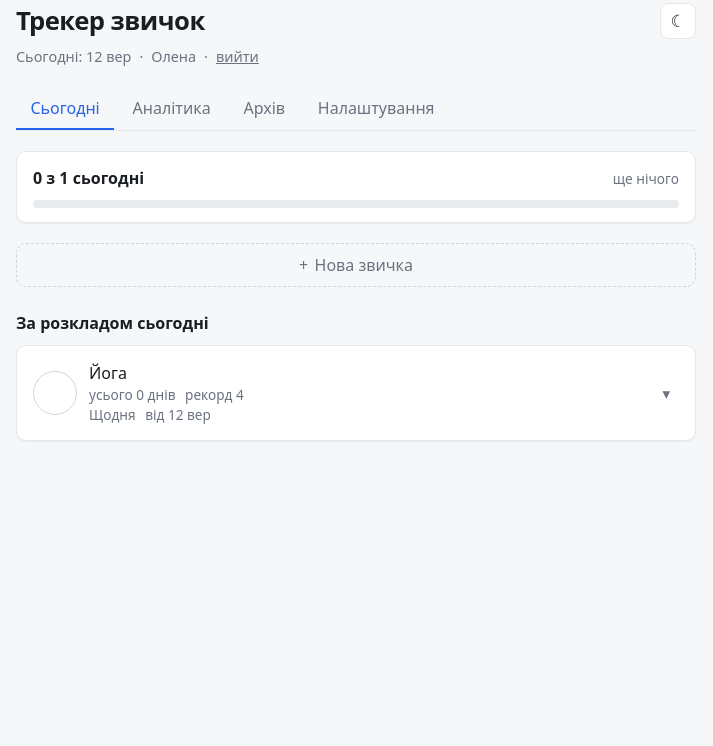
Розклад і профіль › зберігає налаштування нагадувань і пропонує експорт
Click the tab "Налаштування" at x=376, y=109, box [303,88,449,130]
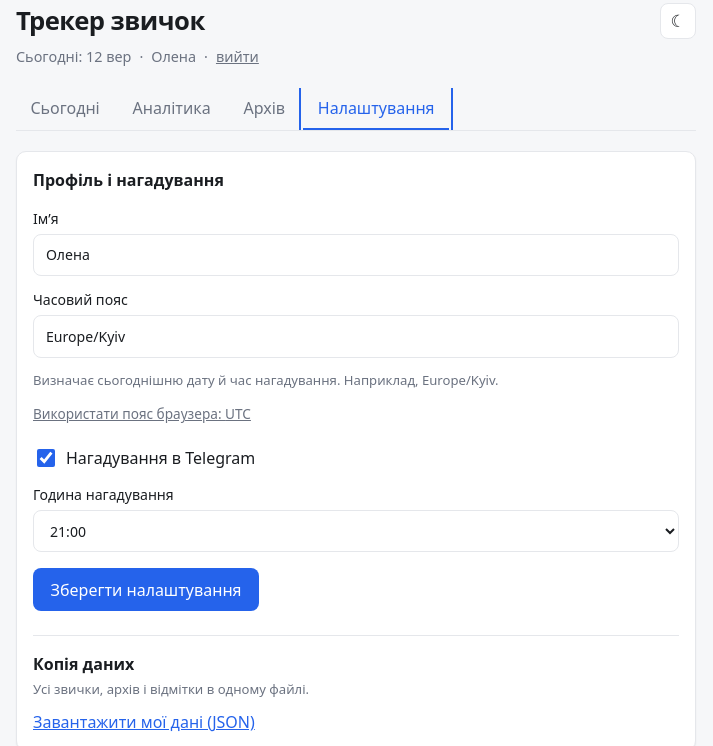
Replace the text in the field labelled "Ім’я" with "Марія" at x=356, y=255, box [33,234,679,276]
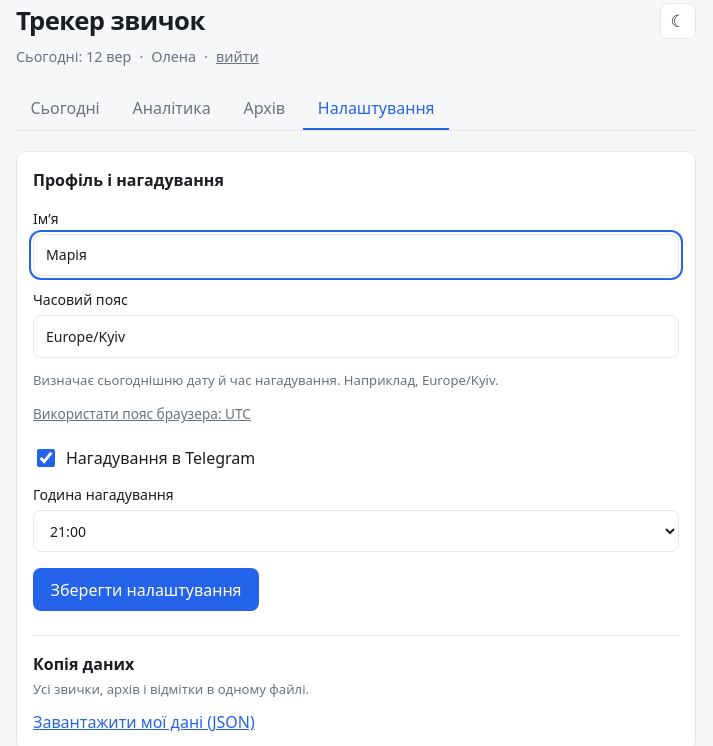
Replace the text in the field labelled "Часовий пояс" with "Europe/London" at x=356, y=336, box [33,315,679,358]
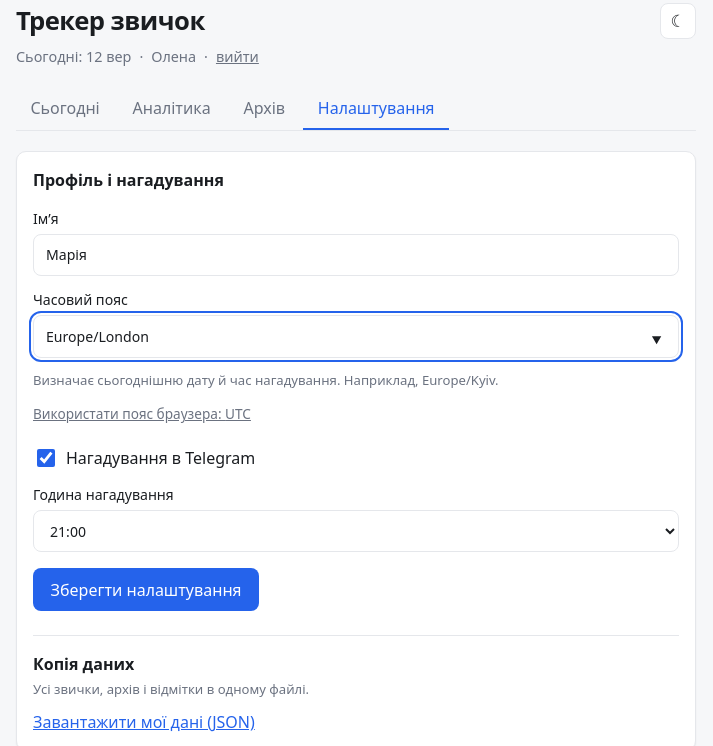
Select "08:00" in the dropdown labelled "Година нагадування" at x=356, y=531, box [33,510,679,552]
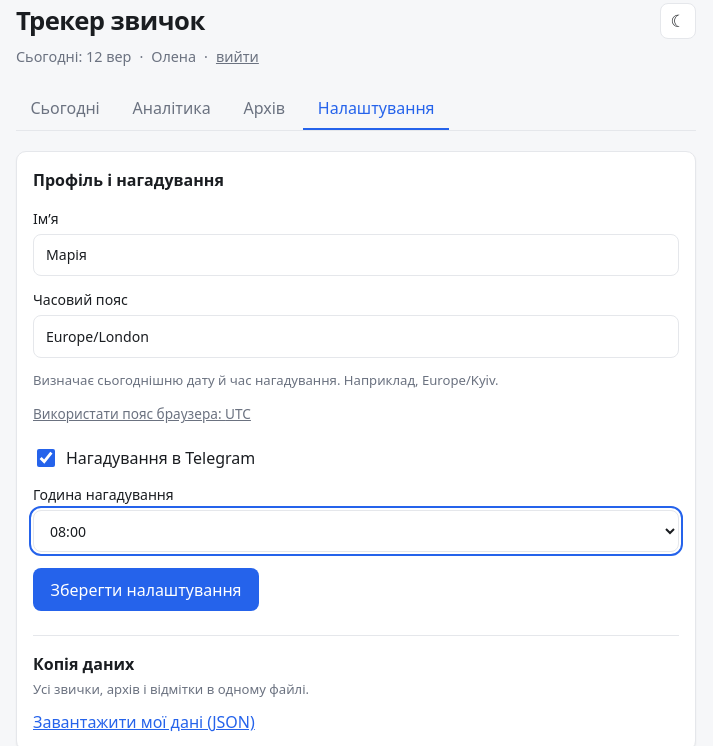
Click the checkbox labelled "Нагадування в Telegram" at x=46, y=458, box [37,450,55,468]
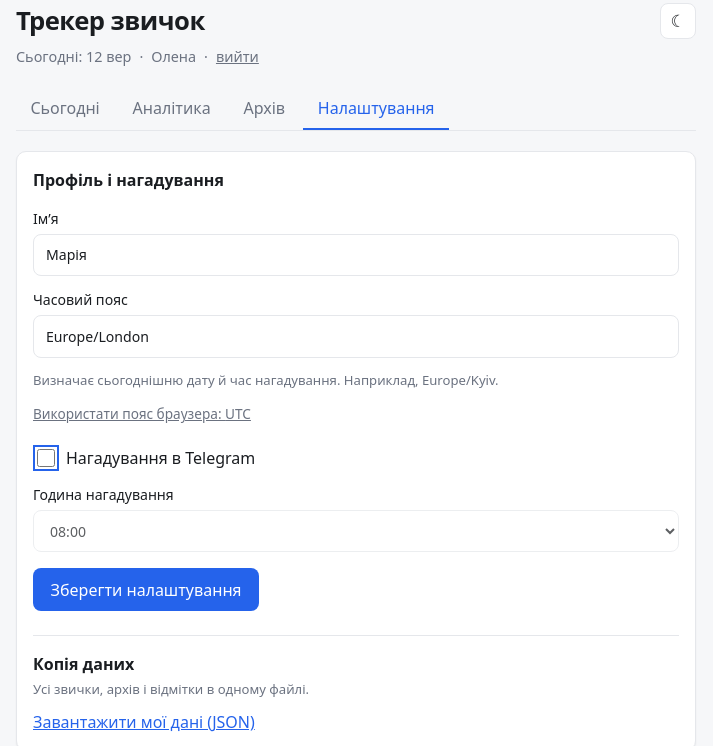
Click the button "Зберегти налаштування" at x=146, y=590, box [33,568,259,611]
(page scrolled)
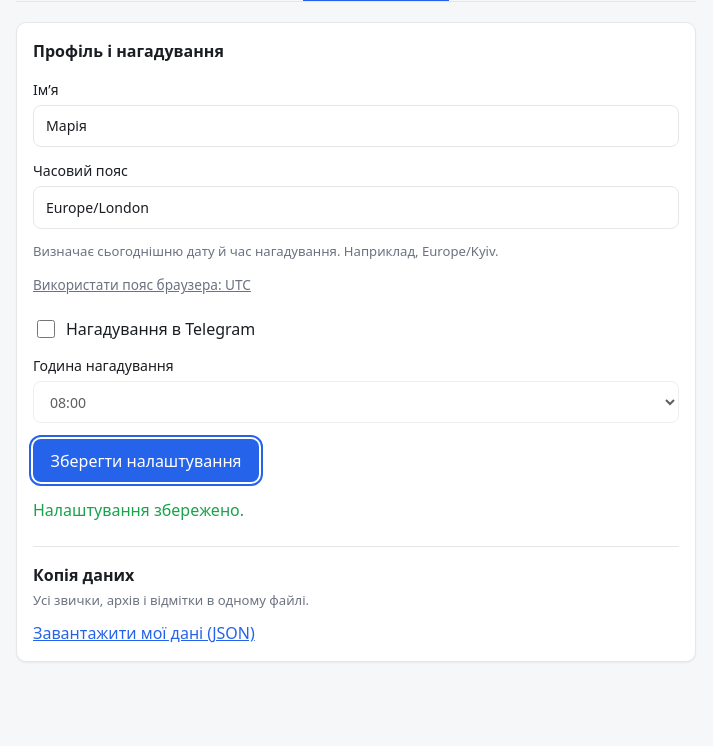
Expected: the message shows "Налаштування збережено", [33,499,244,521]
